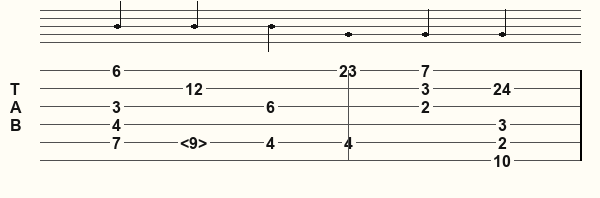10: (493, 152, 515, 168)
12: (185, 80, 207, 96)
2: (421, 98, 434, 114), (498, 134, 511, 150)
23: (339, 62, 361, 78)
24: (493, 80, 515, 96)
3: (112, 98, 125, 114), (421, 80, 434, 96), (498, 116, 511, 132)
4: (112, 116, 125, 132), (266, 134, 279, 150), (344, 134, 357, 150)
6: (112, 62, 125, 78), (266, 98, 279, 114)
7: (112, 134, 125, 150), (421, 62, 434, 78)
harmonic: (180, 134, 211, 150)
